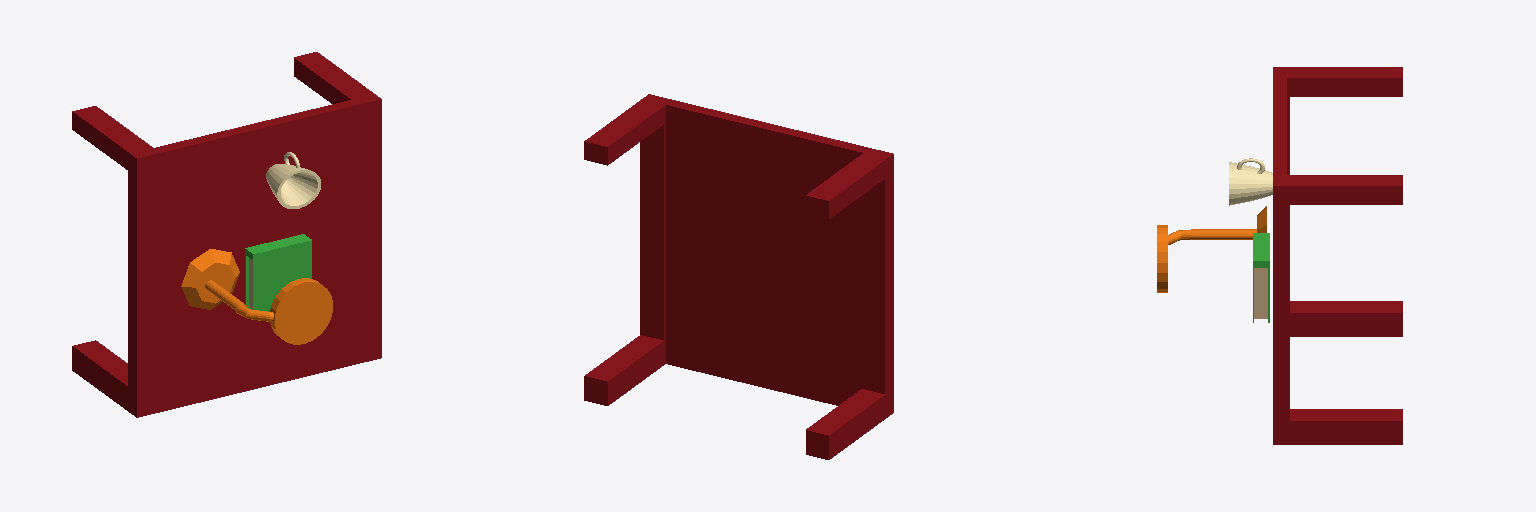
File: tinker.obj
3 views of the same model, side by side, from view 1: azimuth 30°, elevation 25°; view 2: azimuth 150°, elevation 25°; view 3: azimuth 270°, elevation 25° (orthographic).
Visible parts, largest first — view 1: obj_0; view 2: obj_0; view 3: obj_0.
Boxes of the visible parts, box(x1,y1,x2,y2) form: obj_0: box(72, 52, 381, 417); obj_0: box(584, 94, 893, 459); obj_0: box(1157, 67, 1402, 444).
Size of the model in its own units: 83 by 84 by 72.